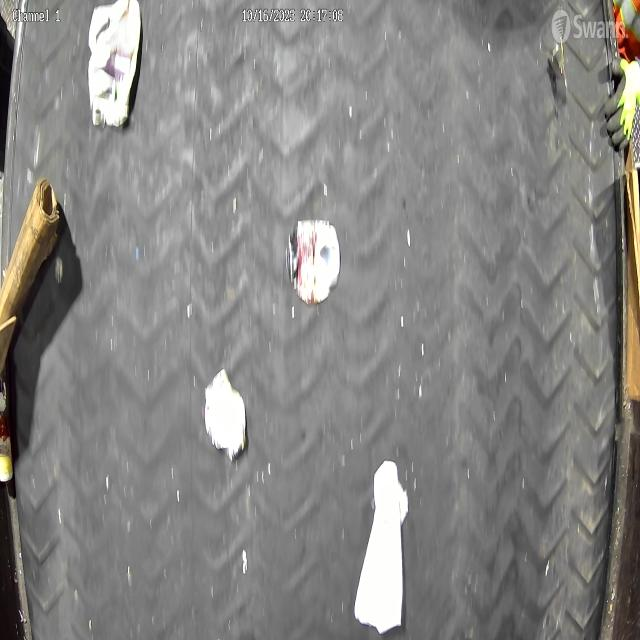can: (287, 217, 341, 304)
non_white_jug: (87, 0, 142, 130)
